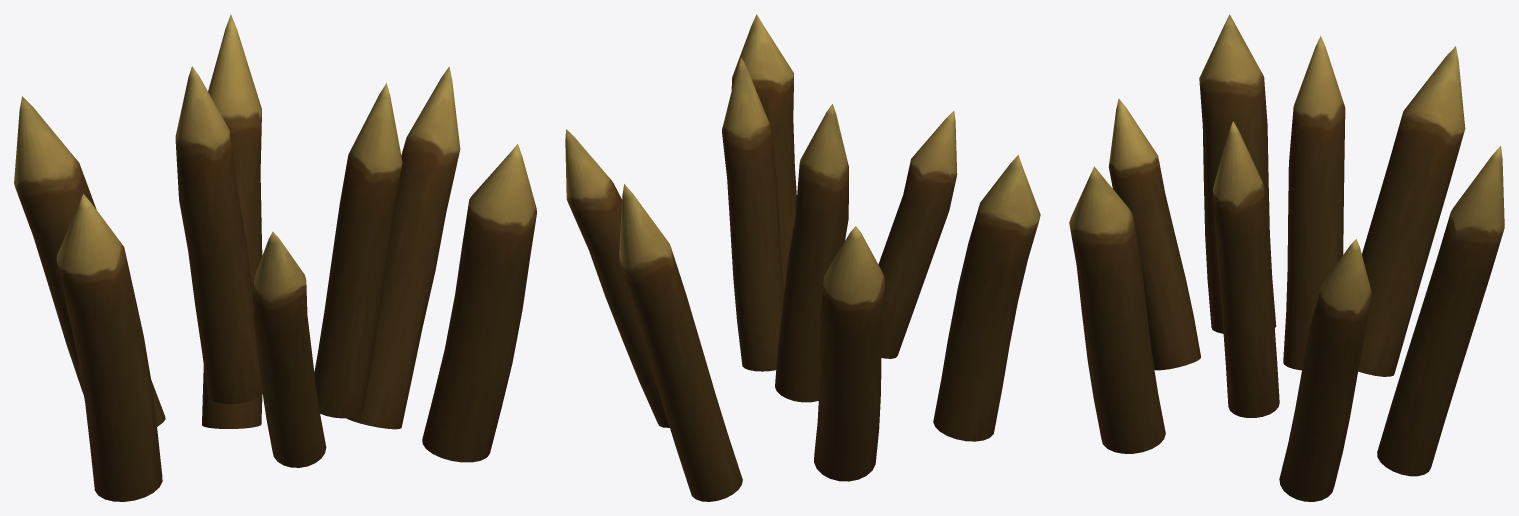
Rendered from trap_spikes.fbx.
3 views of the same model, side by side, from view 1: azimuth 30°, elevation 25°; view 2: azimuth 150°, elevation 25°; view 3: azimuth 270°, elevation 25° (orthographic). The views are drawn at different scales.
Parts seen in each view (by area): view 1: Trap_Pikes; view 2: Trap_Pikes; view 3: Trap_Pikes.
Boxes of the visible parts, box(x1,y1,x2,y2) form: Trap_Pikes: box(14, 14, 536, 501); Trap_Pikes: box(565, 14, 1040, 501); Trap_Pikes: box(1069, 14, 1504, 501).
Bounding box in the file's own units: 138 × 121 × 121.
Materials: 1 (1 with a texture image).
